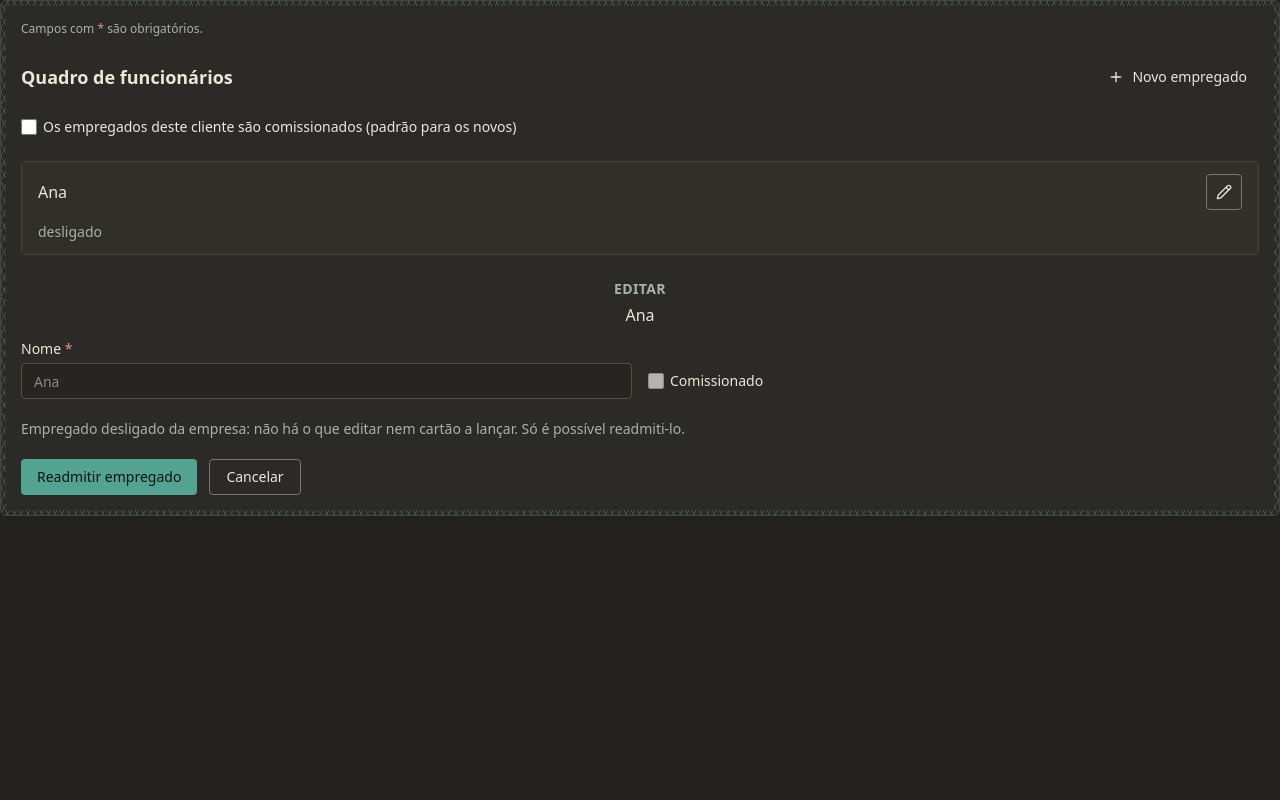
Test: QuadroDeFuncionariosContainer › readmitir grava na hora e fecha o Editar
Click the button "Readmitir empregado" at (109, 477), box [21,459,197,495]
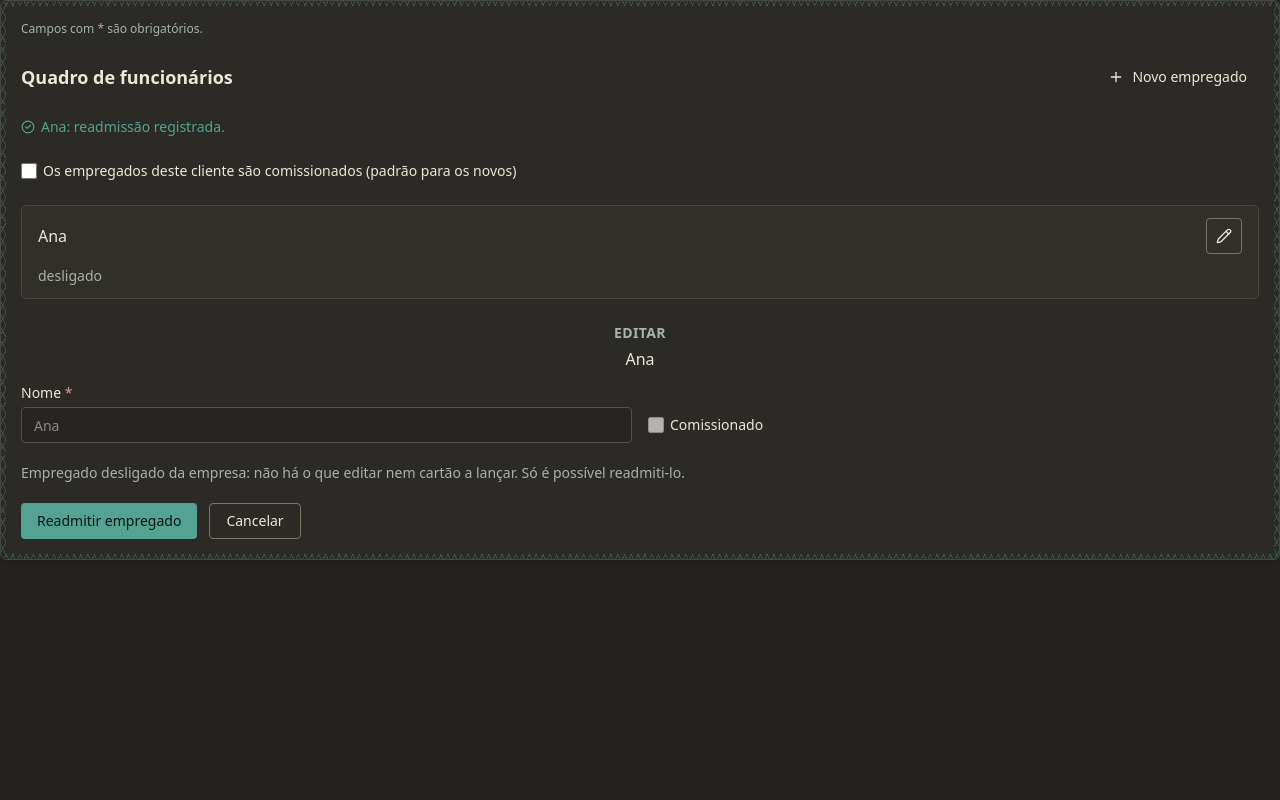
Expected: the message reads "Ana: readmissão registrada.", [41,117,225,136]
